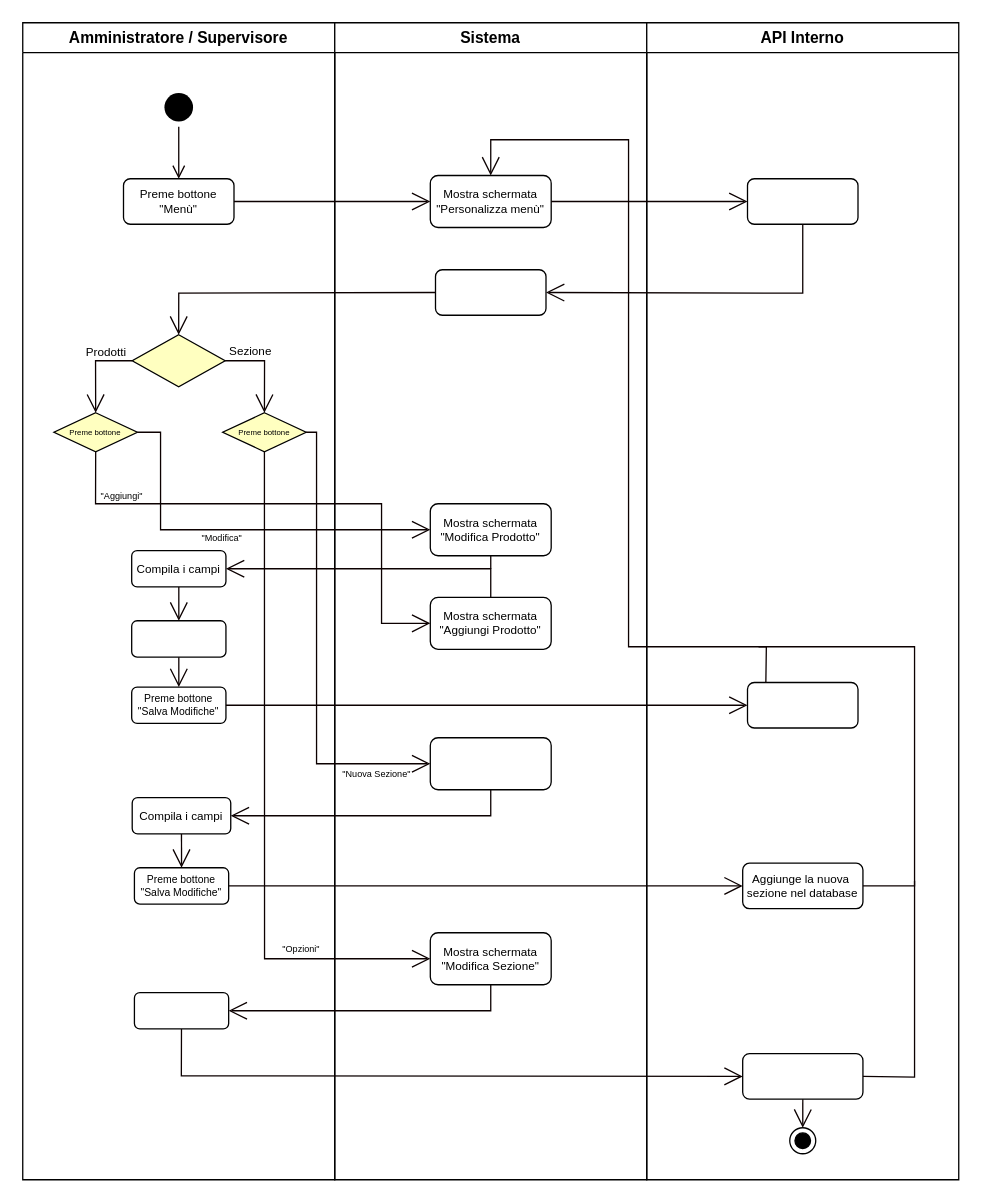
Image size: 981x1203. Some labels were removed from this diagram. The centre of each missing label's shape, as x and y in pixels:
Aggiorna l'ordine delle sezioni: [802,1075]
Carica i dati relativi al menù: [802,200]
Modifica dati: [178,360]
Mostra i prodotti del menù: [490,291]
Mostra schermata "Aggiungi Sezione": [490,763]
Salva il prodotto nel database: [802,704]
Seleziona ordine sezioni: [181,1010]
Seleziona tipologia prodotto: [178,638]
